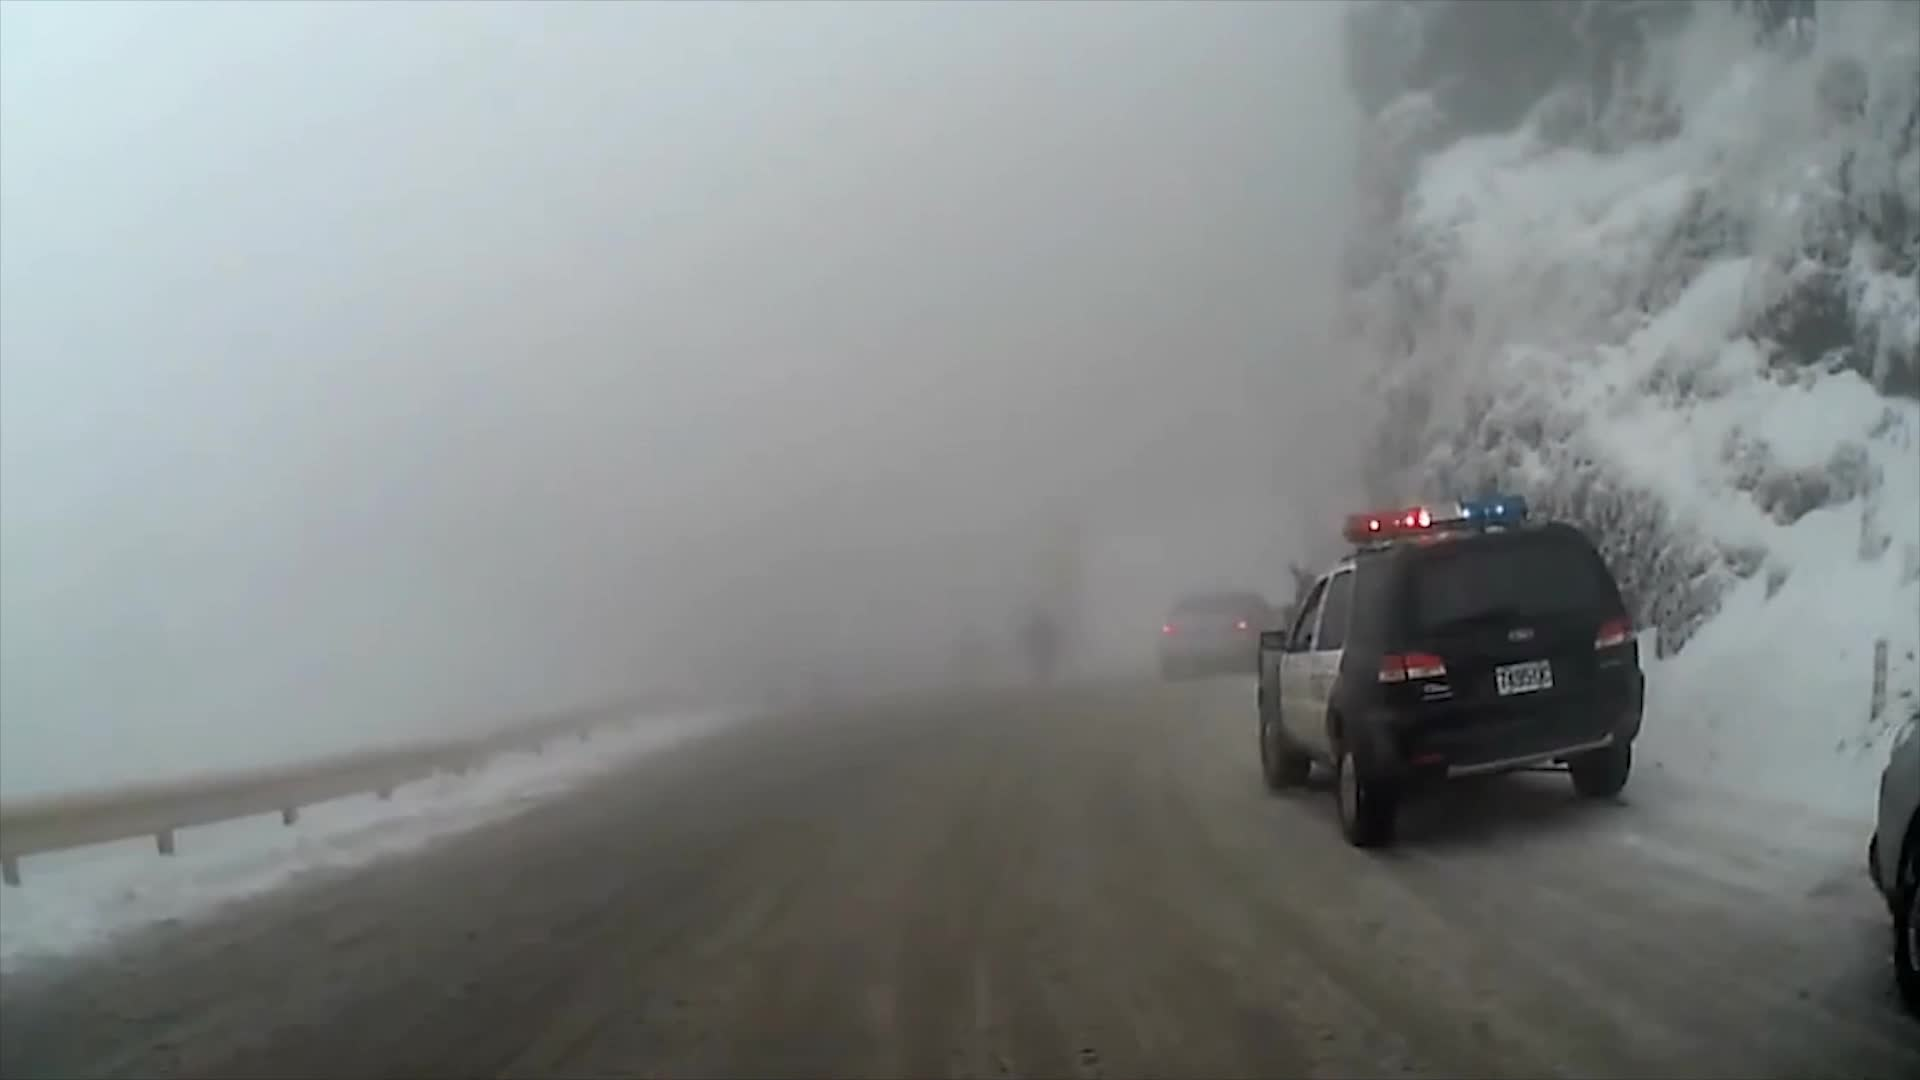vehicle: (1254, 491, 1646, 849), (1863, 719, 1919, 1021), (1156, 587, 1283, 679)
